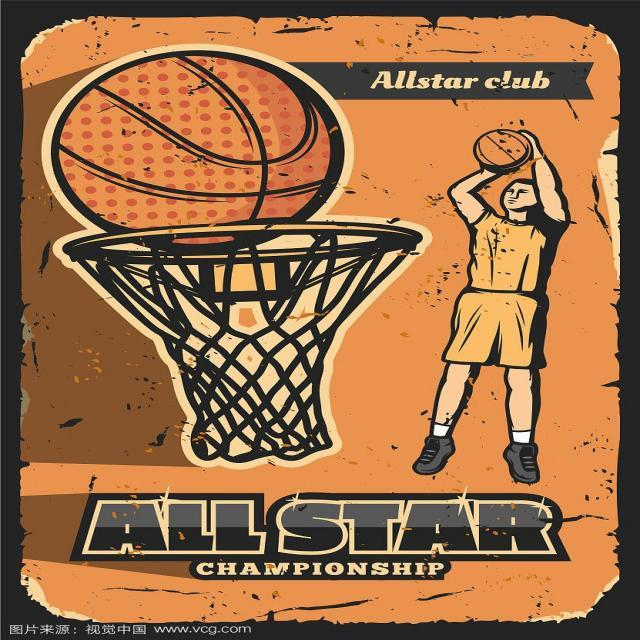rim: (48, 46, 339, 252), (476, 125, 528, 168)
